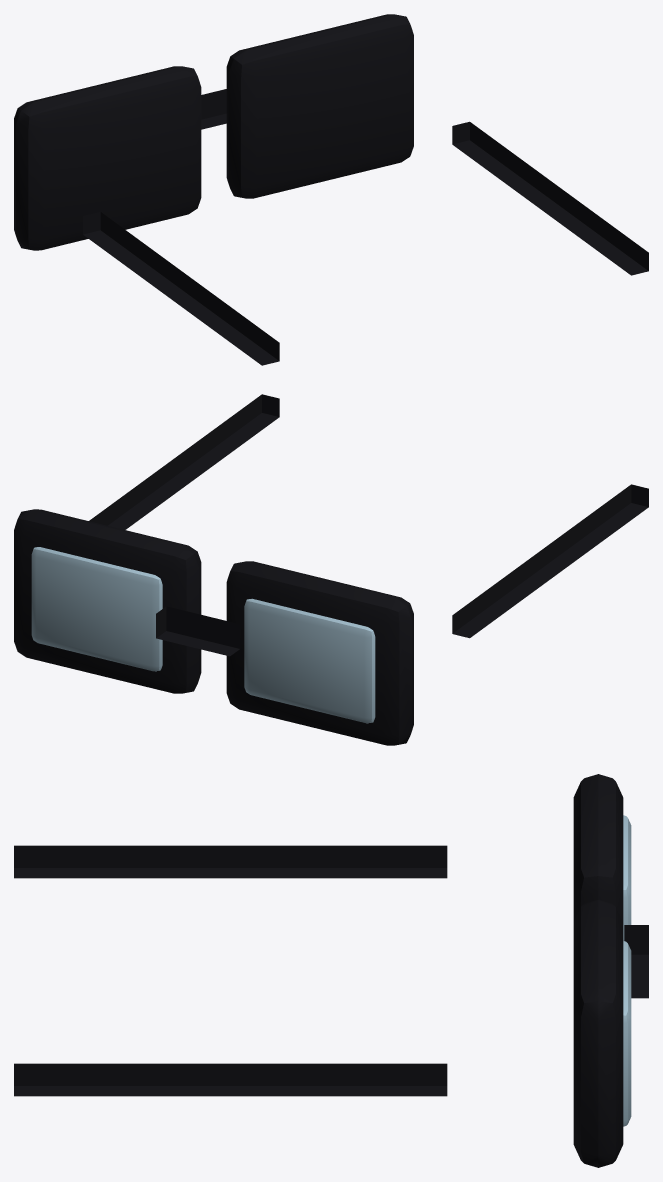
Rendered from Glasses3.fbx.
3 views of the same model, one above another, from view 1: azimuth 30°, elevation 25°; view 2: azimuth 150°, elevation 25°; view 3: azimuth 270°, elevation 25° (orthographic). The views are drawn at different scales.
Parts seen in each view (by area): view 1: Glasses3; view 2: Glasses3; view 3: Glasses3.
Part boxes in pixels (x1,y1,x2,y2): Glasses3: (14,14,648,365); Glasses3: (14,394,648,745); Glasses3: (14,774,648,1167).
Size of the model in its own units: 0.268 by 0.096 by 0.3077.
